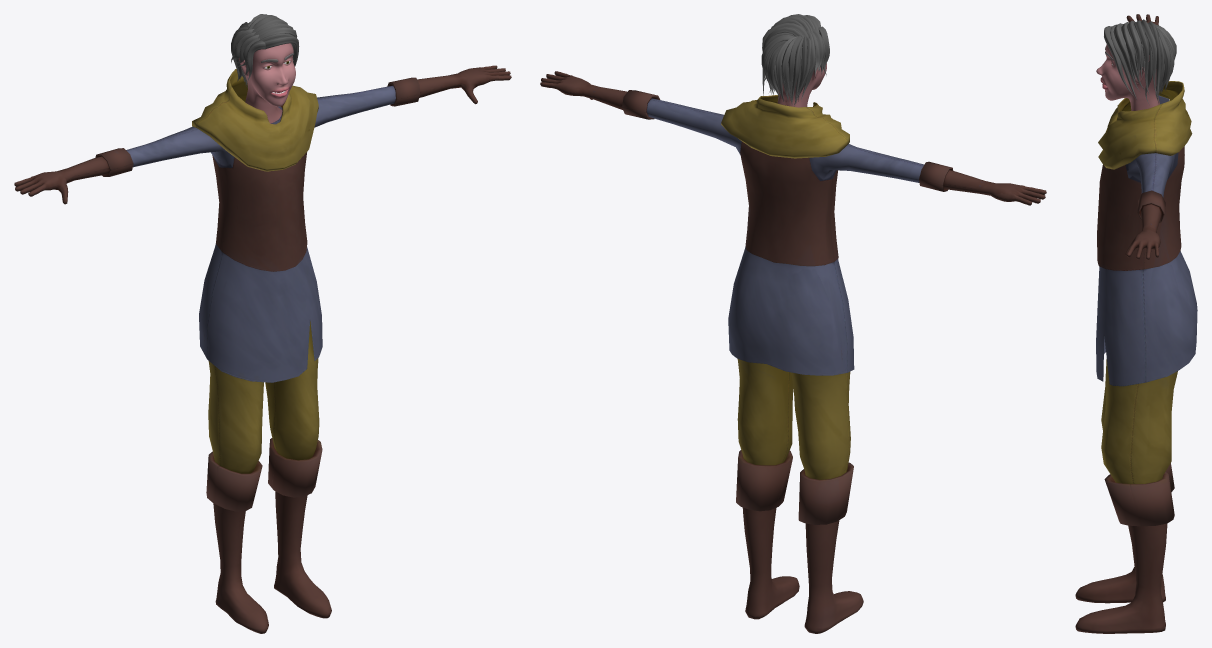
Rendered from UnamedChar02.fbx.
3 views of the same model, side by side, from view 1: azimuth 30°, elevation 25°; view 2: azimuth 150°, elevation 25°; view 3: azimuth 270°, elevation 25° (orthographic).
Visible parts, largest first — view 1: UnamedChar02_Body, UnamedChar02_Head, UnamedChar02_Hair; view 2: UnamedChar02_Body, UnamedChar02_Hair, UnamedChar02_Head; view 3: UnamedChar02_Body, UnamedChar02_Hair, UnamedChar02_Head.
Part boxes in pixels (x1,y1,x2,y2): UnamedChar02_Body: [14, 65, 511, 633]; UnamedChar02_Head: [239, 43, 295, 123]; UnamedChar02_Hair: [231, 14, 299, 87]; UnamedChar02_Body: [540, 71, 1046, 633]; UnamedChar02_Hair: [761, 14, 829, 106]; UnamedChar02_Head: [777, 63, 826, 107]; UnamedChar02_Body: [1075, 14, 1197, 633]; UnamedChar02_Hair: [1104, 19, 1176, 103]; UnamedChar02_Head: [1096, 44, 1159, 110].
Size of the model in its own units: 164 by 187 by 34.85.
1 material, 1 textured.
